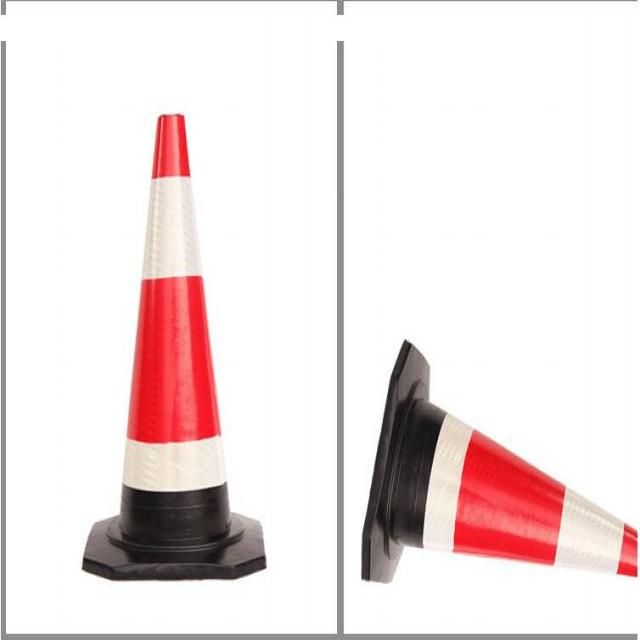reflective_cone: (80, 108, 267, 580), (358, 335, 638, 588)
